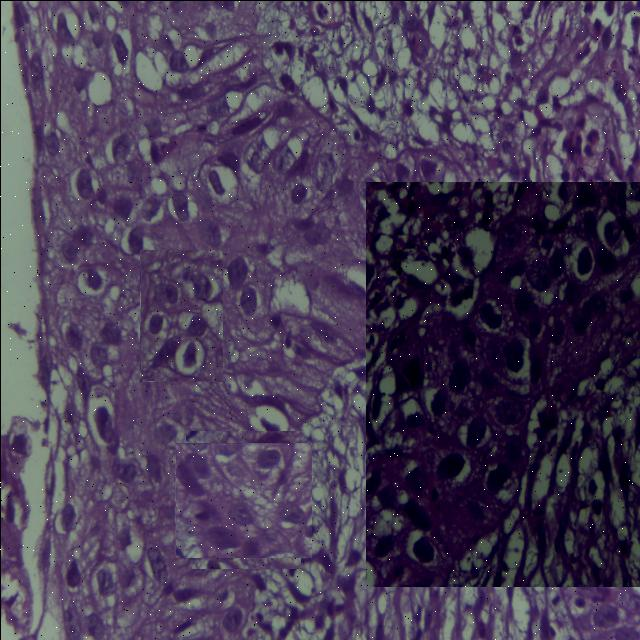Nuclear Hyperchromatism: (365, 181, 640, 586), (66, 123, 260, 325), (174, 443, 311, 556), (139, 249, 222, 381)
